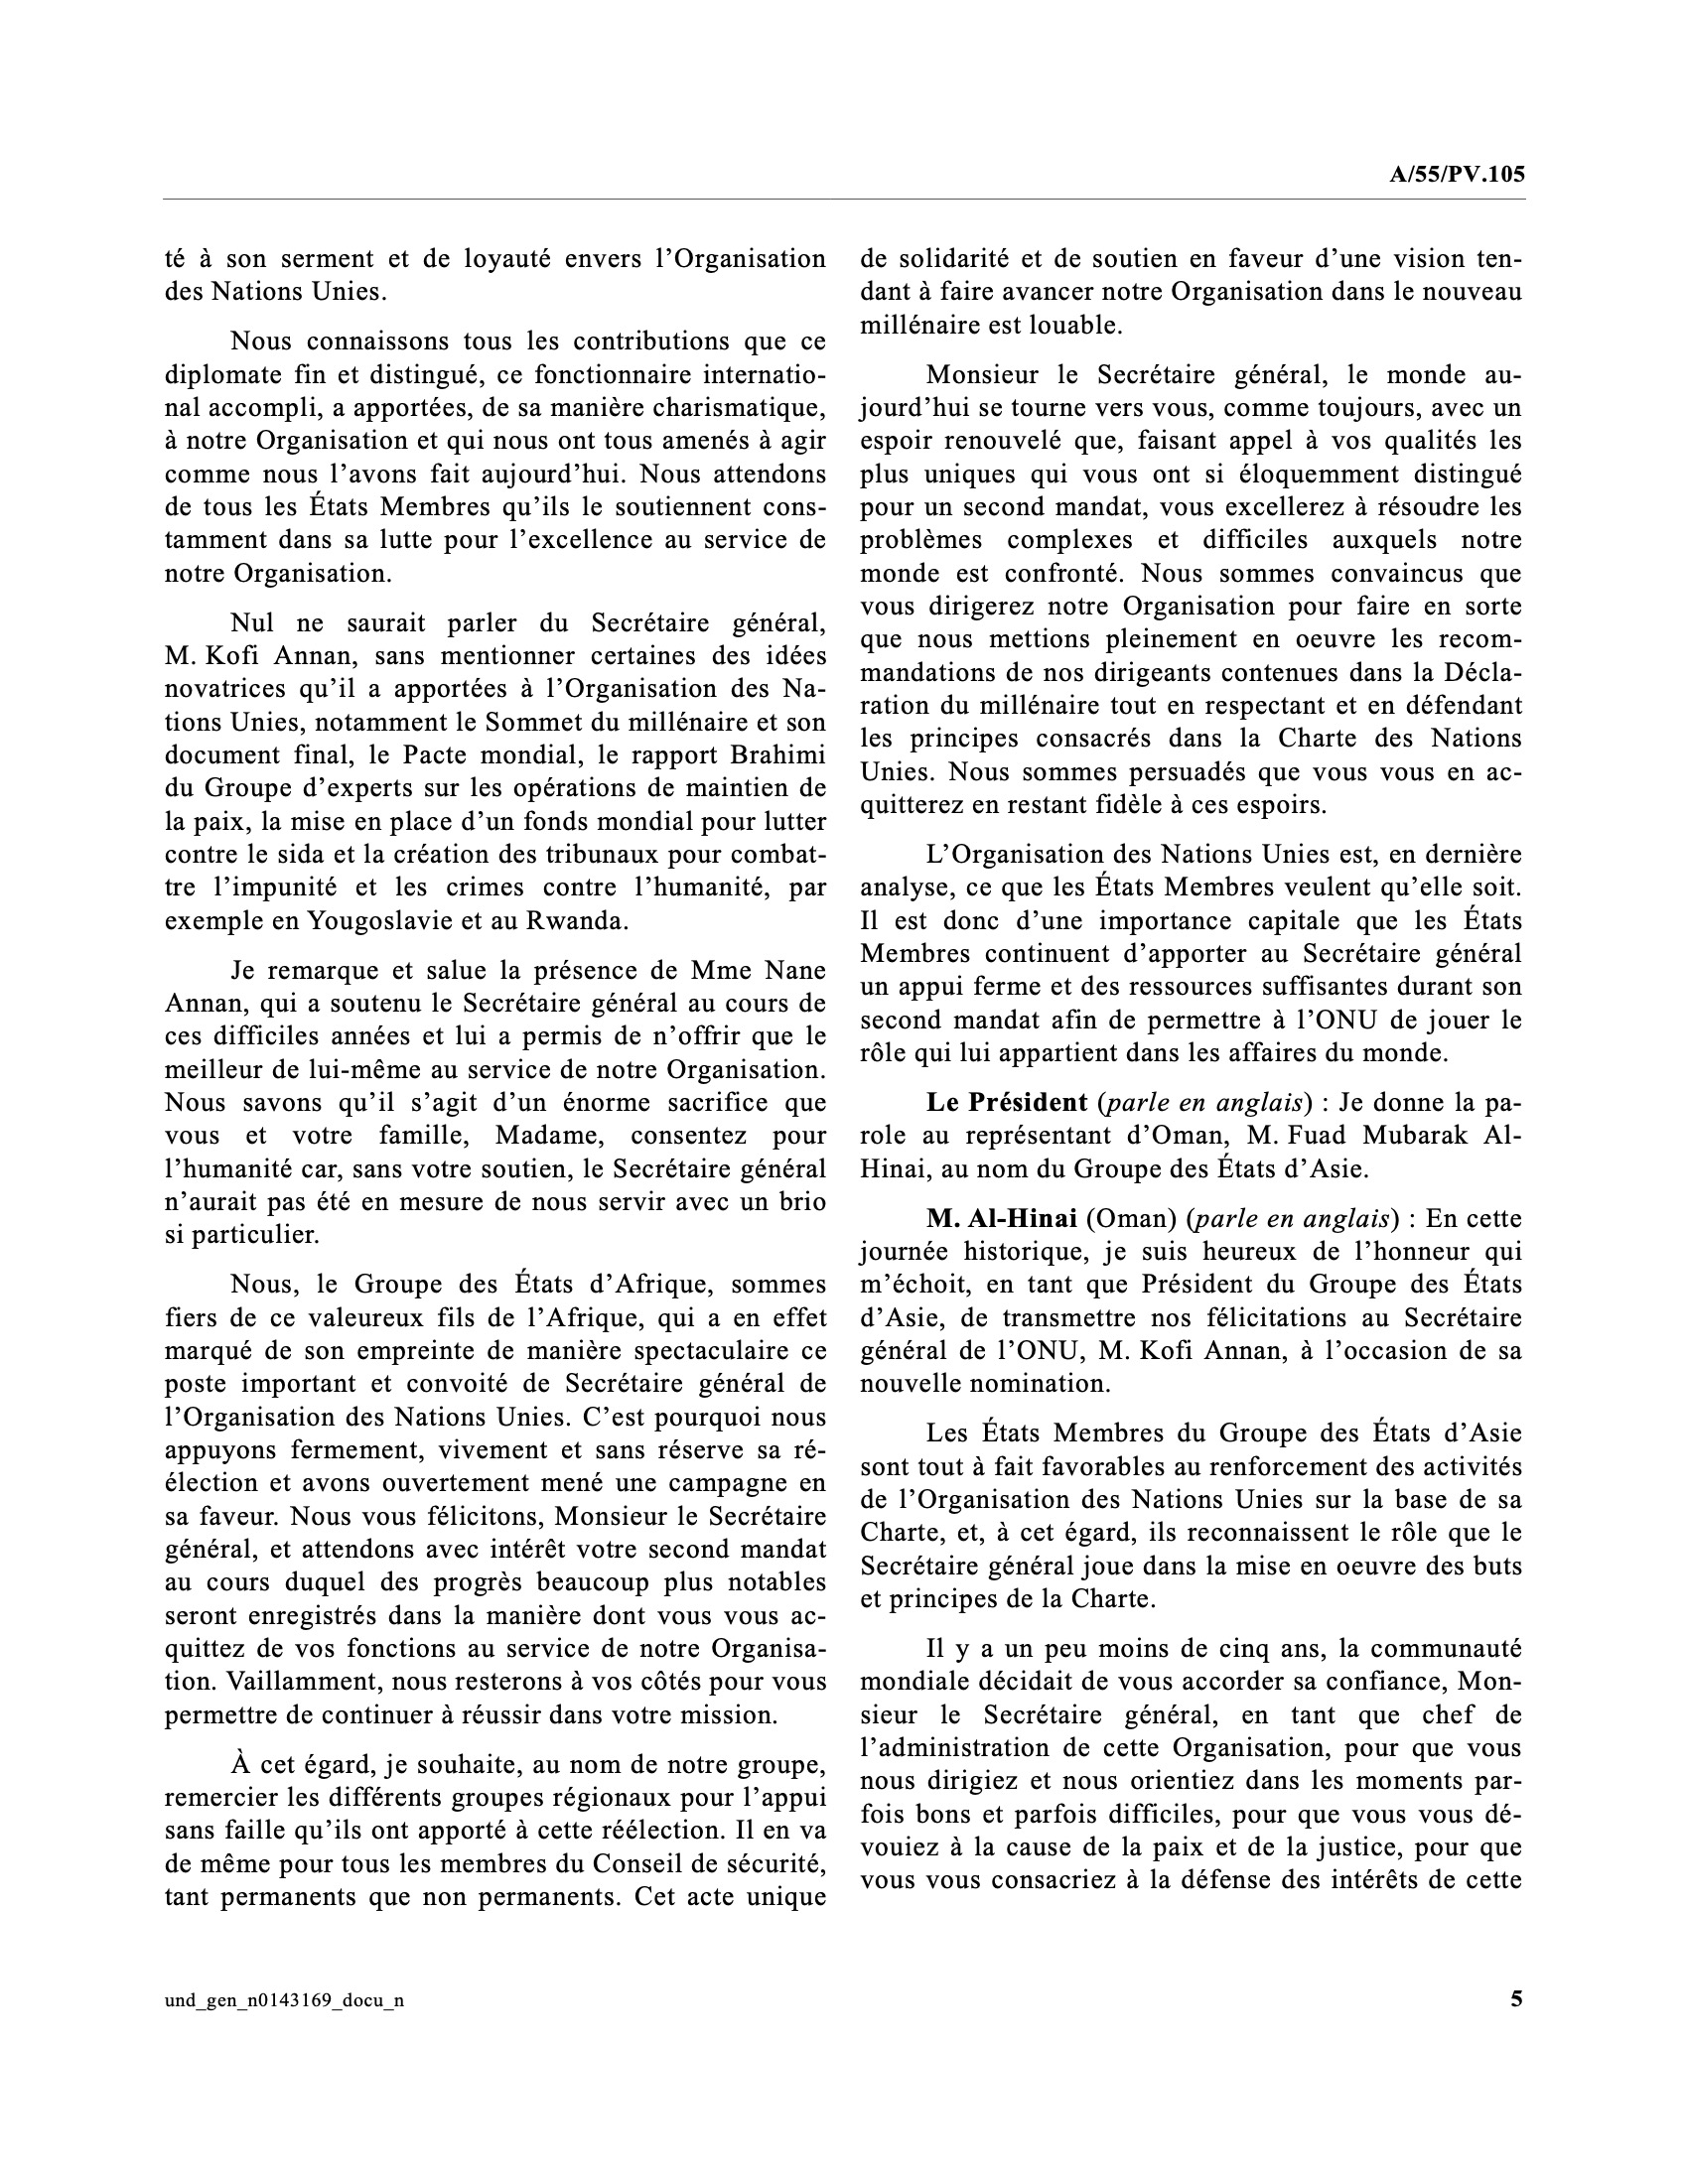MainZone-Continued: (851, 236, 1534, 346), (156, 238, 830, 312)
MainZone-Other: (156, 1980, 418, 2024)
MainZone-P: (154, 1264, 837, 1732), (851, 356, 1532, 821), (156, 603, 837, 938), (156, 950, 835, 1253), (855, 1631, 1532, 1902), (160, 321, 833, 592), (855, 837, 1530, 1072), (855, 1413, 1530, 1617), (855, 1202, 1532, 1402), (156, 1744, 835, 1922), (853, 1083, 1530, 1188)
NumberingZone: (1502, 1980, 1530, 2023)
RunningTitleZone: (1385, 156, 1534, 191)
